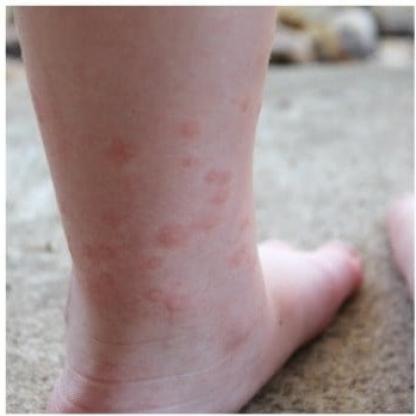Fire ant: (201, 166, 235, 208), (146, 283, 188, 313), (152, 221, 194, 249), (229, 238, 260, 272), (108, 137, 140, 162), (83, 241, 117, 264), (102, 208, 134, 232), (92, 271, 119, 290), (235, 92, 255, 115), (138, 253, 164, 270), (176, 116, 198, 136), (198, 214, 220, 232), (182, 149, 198, 169), (243, 211, 252, 229)
